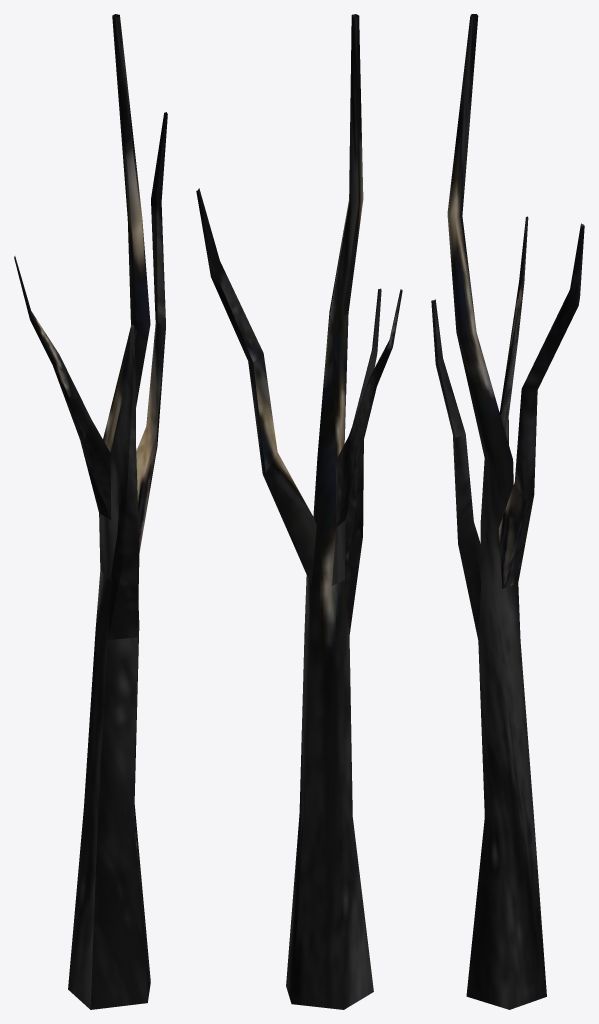
Rendered from pir_m_prp_vol_treeDead_f.fbx.
3 views of the same model, side by side, from view 1: azimuth 30°, elevation 25°; view 2: azimuth 150°, elevation 25°; view 3: azimuth 270°, elevation 25° (orthographic). The views are drawn at different scales.
Visible parts, largest first — view 1: lod_high; view 2: lod_high; view 3: lod_high.
Part boxes in pixels (<box>): lod_high: <box>14,14,167,1009</box>; lod_high: <box>196,14,402,1009</box>; lod_high: <box>431,14,584,1009</box>.
Size of the model in its own units: 789 by 4116 by 590.
1 material, 1 textured.
